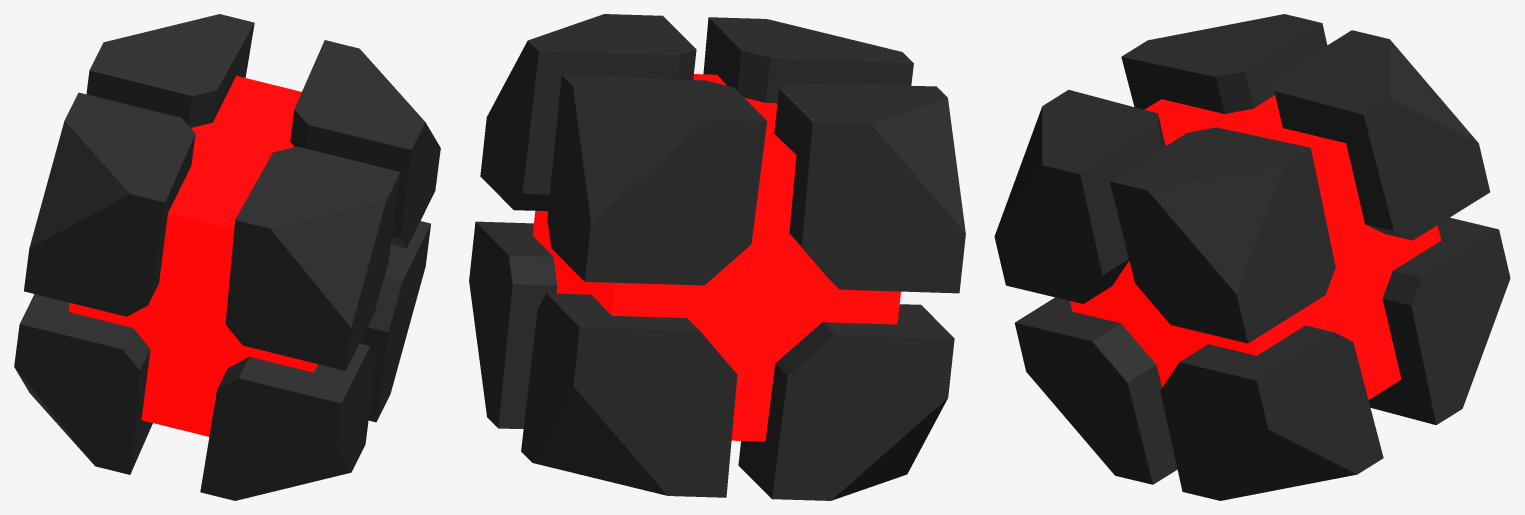
File: mechanical-pack.glb
3 views of the same model, side by side, from view 1: azimuth 30°, elevation 25°; view 2: azimuth 150°, elevation 25°; view 3: azimuth 270°, elevation 25° (orthographic). The views are drawn at different scales.
Visible parts, largest first — view 1: Cube.021; view 2: Cube.021; view 3: Cube.021.
Boxes of the visible parts, left/top/right/bottom form: Cube.021: left=14, top=14, right=440, bottom=500; Cube.021: left=469, top=14, right=965, bottom=500; Cube.021: left=994, top=14, right=1510, bottom=500.
Bounding box in the file's own units: 4.8 × 4.04 × 5.
Materials: 1 (1 with a texture image).
